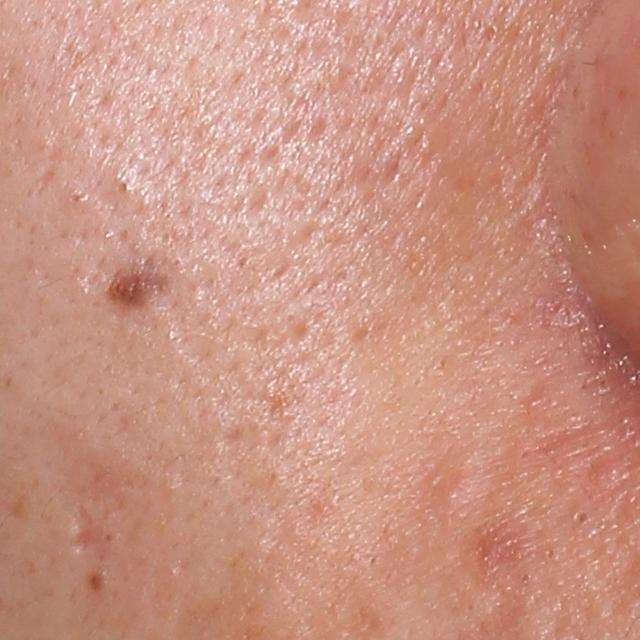atrophic_scar: (67, 503, 113, 568)
comedo: (109, 174, 134, 201), (64, 187, 90, 211), (572, 508, 594, 530)
nevus: (102, 265, 176, 319)
